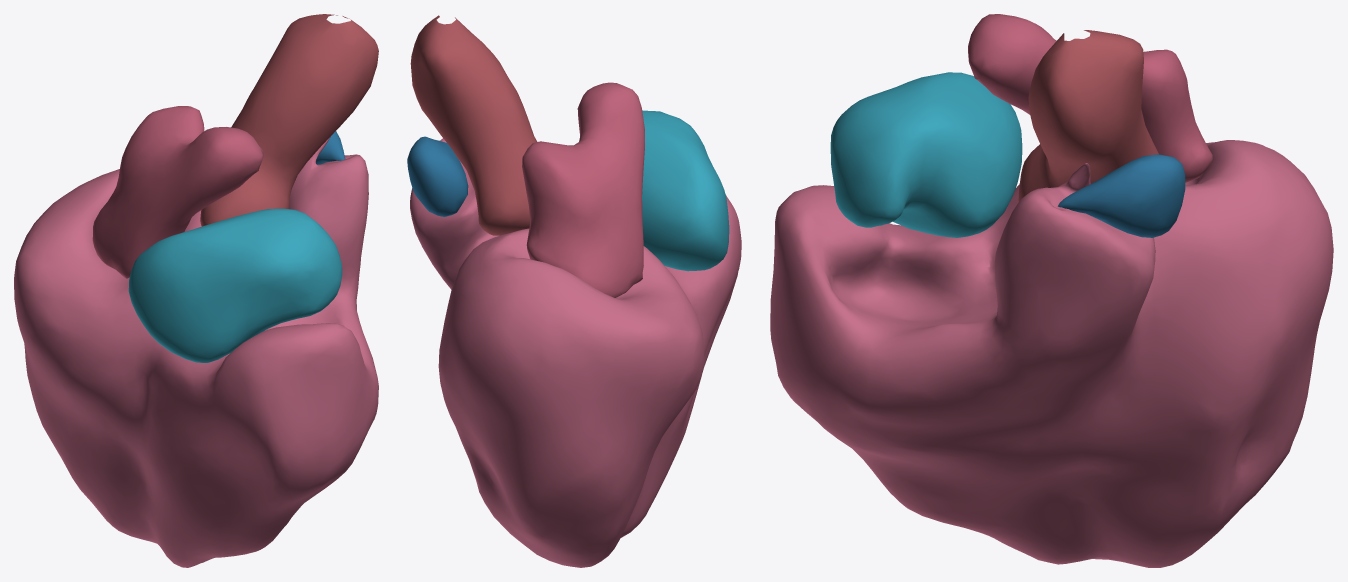
File: frame_74.glb
3 views of the same model, side by side, from view 1: azimuth 30°, elevation 25°; view 2: azimuth 150°, elevation 25°; view 3: azimuth 270°, elevation 25° (orthographic). The views are drawn at different scales.
Visible parts, largest first — view 1: Renderer Node; view 2: Renderer Node; view 3: Renderer Node.
Boxes of the visible parts, box(x1,y1,x2,y2) form: Renderer Node: box(14, 14, 378, 567); Renderer Node: box(407, 15, 741, 567); Renderer Node: box(770, 14, 1333, 567).
Size of the model in its own units: 104 by 159 by 129.
